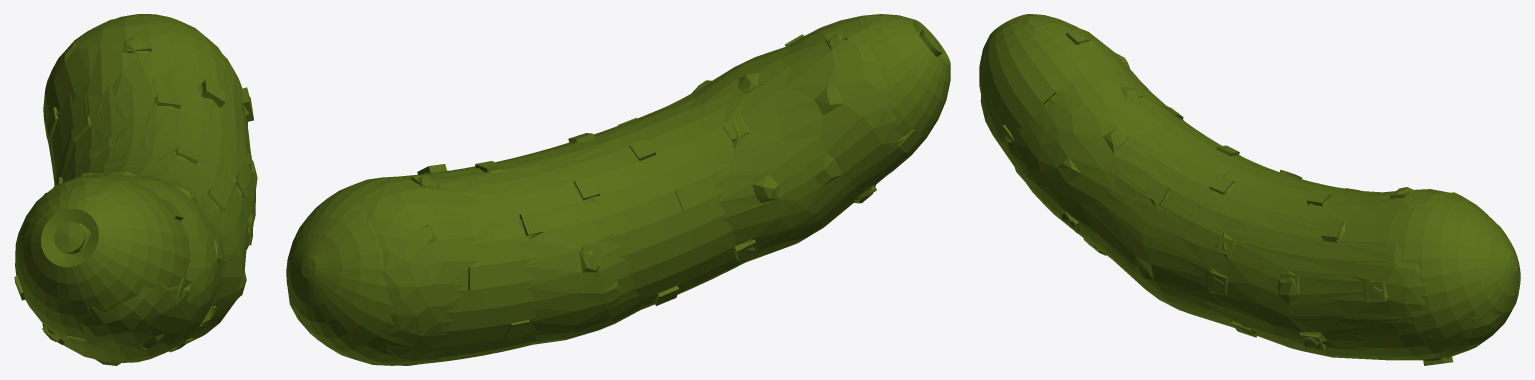
Rendered from pickle.fbx.
3 views of the same model, side by side, from view 1: azimuth 30°, elevation 25°; view 2: azimuth 150°, elevation 25°; view 3: azimuth 270°, elevation 25° (orthographic). The views are drawn at different scales.
Parts seen in each view (by area): view 1: Object_4; view 2: Object_4; view 3: Object_4.
Boxes of the visible parts, bbox=[...] form: Object_4: bbox=[14, 14, 257, 365]; Object_4: bbox=[286, 14, 950, 365]; Object_4: bbox=[979, 14, 1520, 365].
Bounding box in the file's own units: 188 × 113 × 242.
